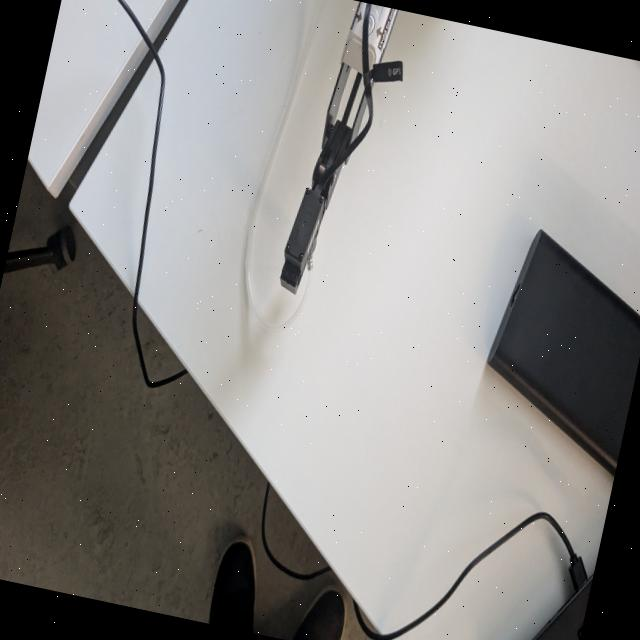Robot-end-effector-HF8z: (272, 180, 334, 305)
